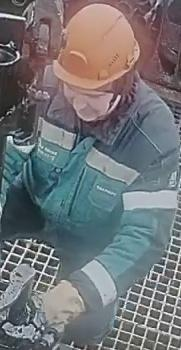gloves: (34, 279, 90, 327)
helmet: (51, 2, 140, 93)
vest: (13, 100, 181, 243)
